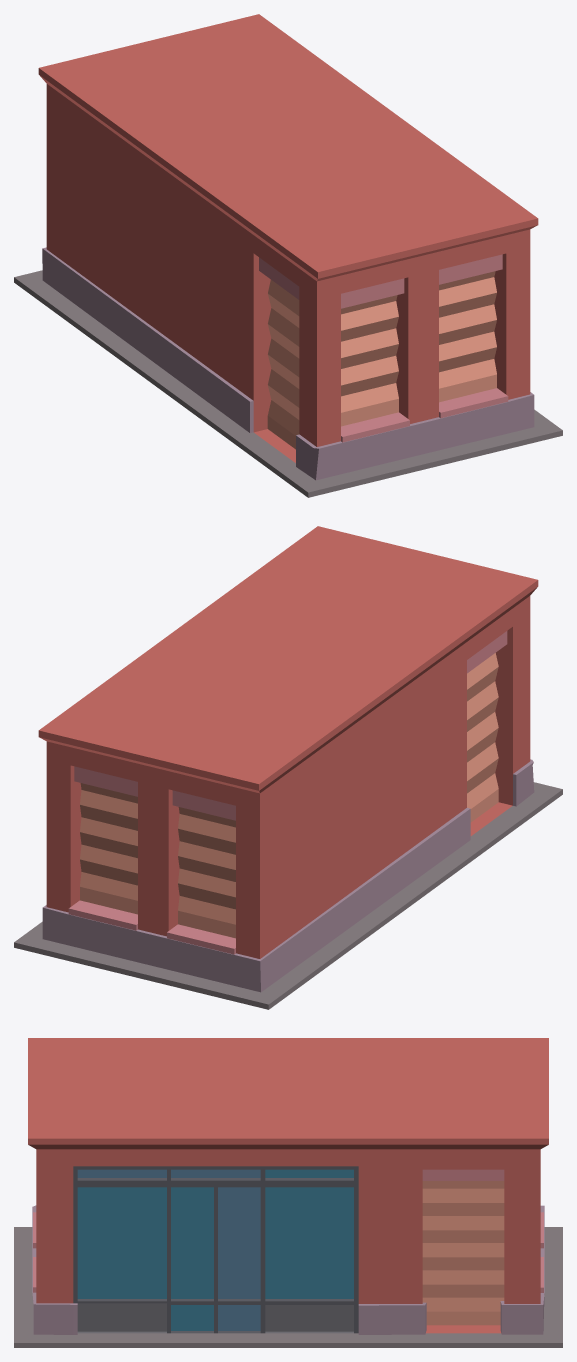
Rendered from building_1x2_2_g.glb.
The picture shows the model from 3 angles, top to bottom: view 1: azimuth 30°, elevation 25°; view 2: azimuth 150°, elevation 25°; view 3: azimuth 270°, elevation 25°; orthographic projection. The views are drawn at different scales.
Parts seen in each view (by area): view 1: FirstFloor; view 2: FirstFloor; view 3: FirstFloor.
Boxes of the visible parts, x1,y1,x2,y2 form: FirstFloor: [14, 14, 562, 497]; FirstFloor: [14, 526, 562, 1009]; FirstFloor: [14, 1038, 562, 1347].
Bounding box in the file's own units: 2 × 1.62 × 4.
